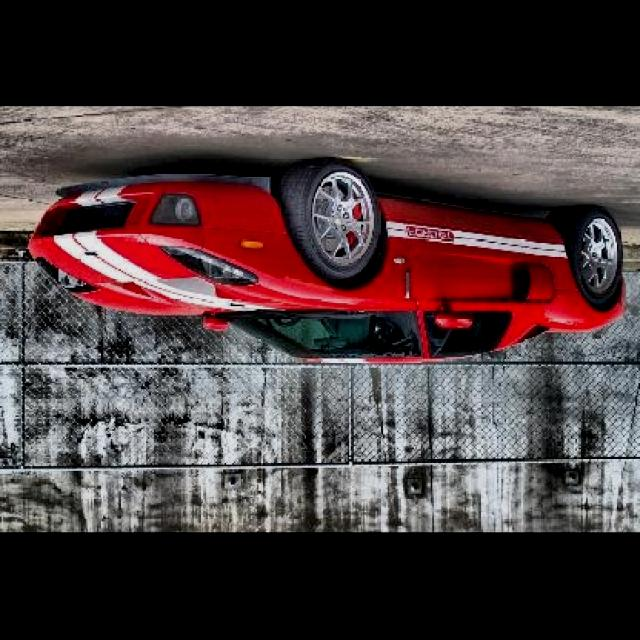red: (34, 162, 626, 369)
